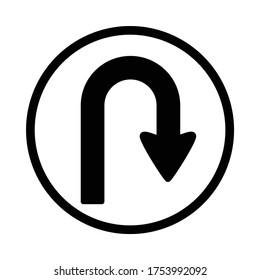Right Hair Pin Bend: (14, 23, 251, 240)
